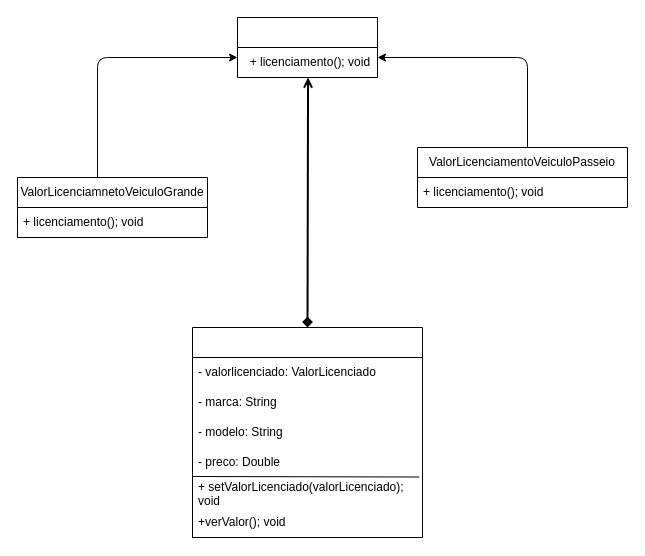
Some shapes in this 645 by 556 pixel diagram are drawn without their labels. The shapes that lost their labels are listed below. From the top down, each one's box as (x1, y1, x2, y2) in pixels, then its label:
(236, 16, 378, 78): << interface >> ValorLicenciado
(192, 326, 422, 538): Carro
